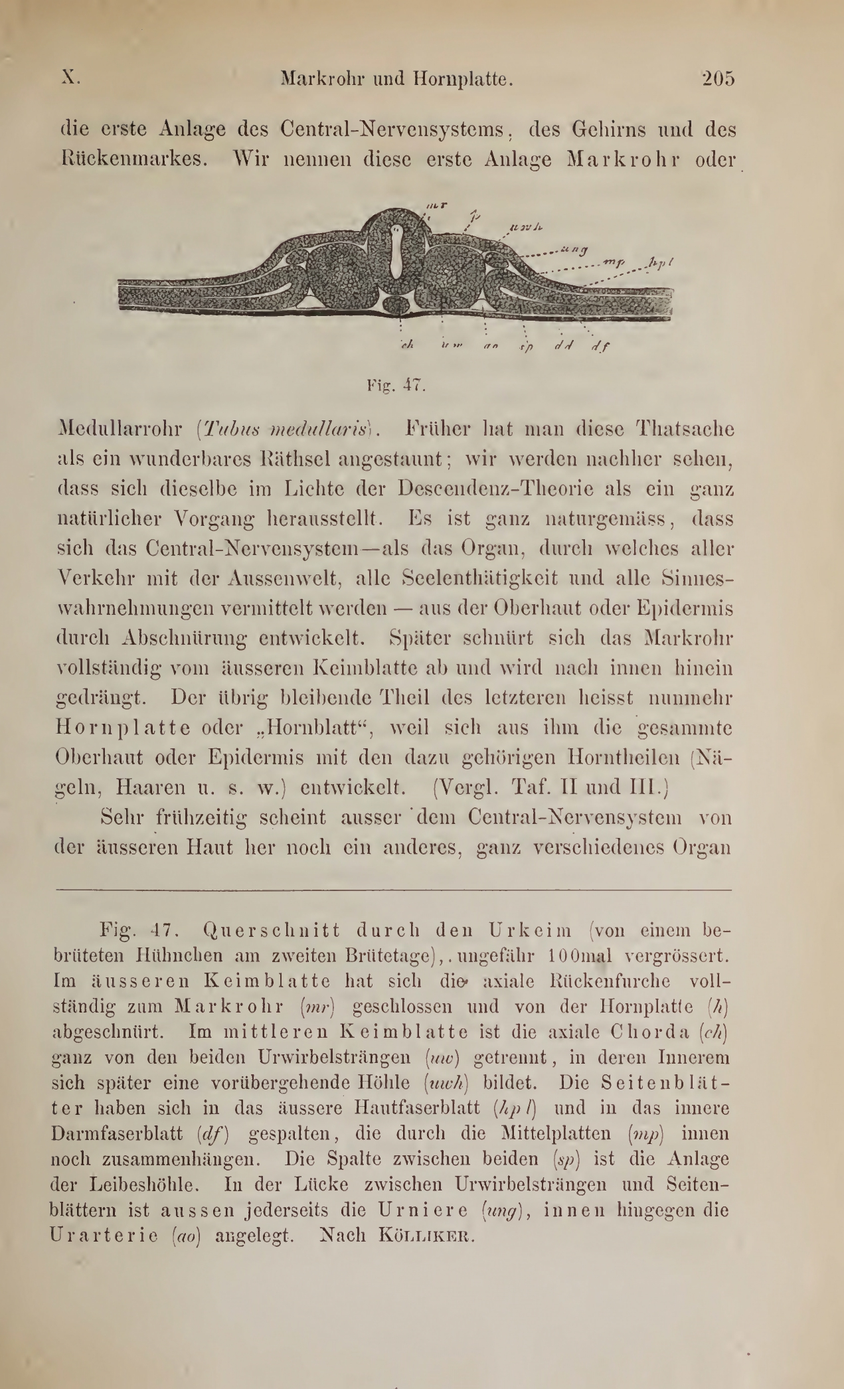GraphicZone_Description: (352, 368, 439, 408)
GraphicZone_Illustration: (101, 199, 706, 362)
MainZone: (41, 112, 747, 877)
MarginTextZone note: (38, 911, 754, 1267)
NumberingZone chapter: (52, 57, 94, 95)
NumberingZone_page: (693, 57, 747, 99)
RunningTitleZone: (270, 60, 527, 97)
